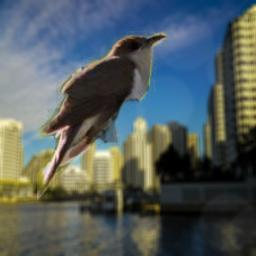Cuckoo: (37, 31, 167, 205)
